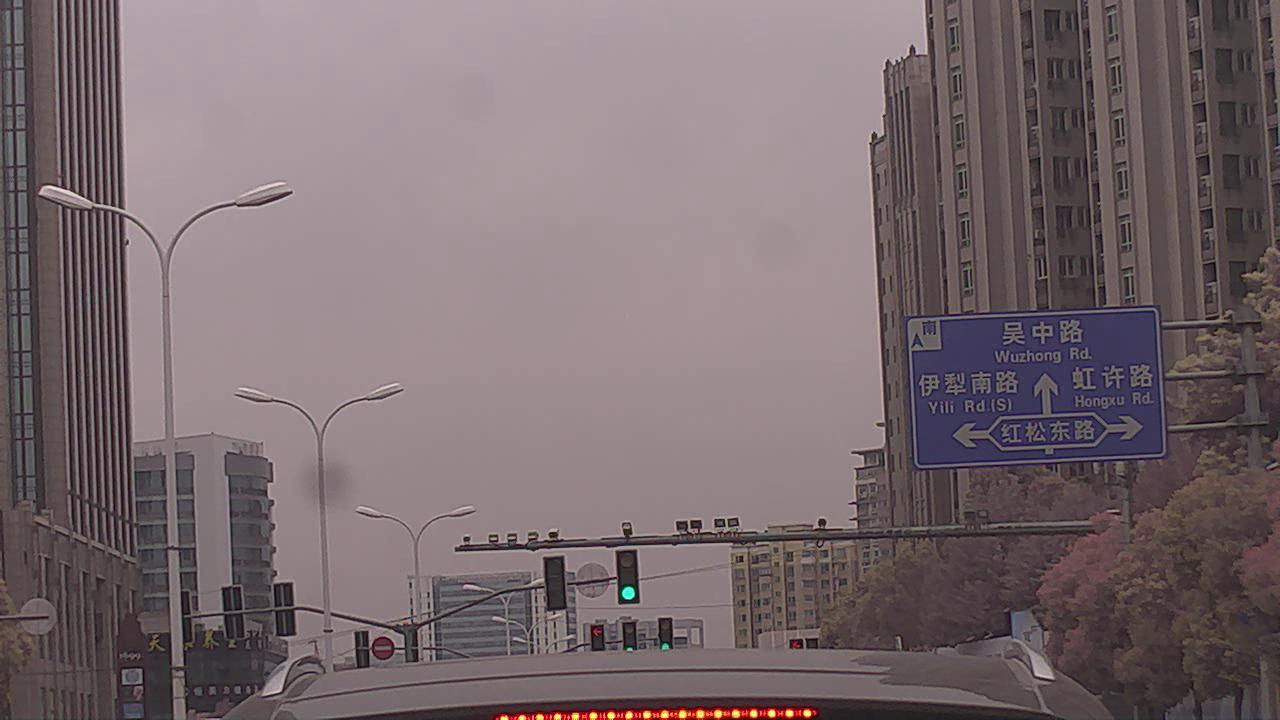traffic_light: (618, 550, 642, 606), (546, 555, 567, 610), (588, 626, 607, 657), (624, 622, 639, 657), (661, 617, 673, 654)
